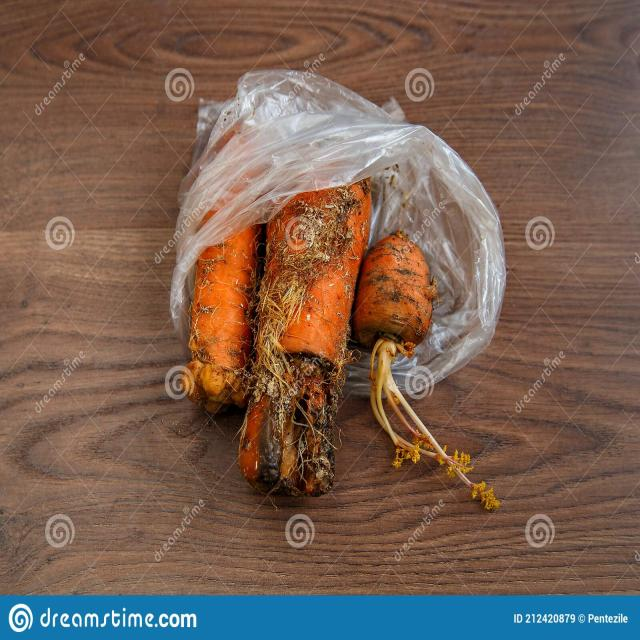Stale_Carrot: (255, 155, 383, 487), (198, 206, 249, 389)
